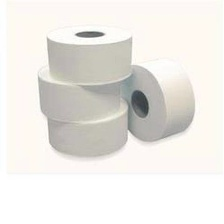tissue: (119, 52, 199, 147), (42, 19, 139, 89), (42, 91, 134, 160), (32, 59, 125, 126)
